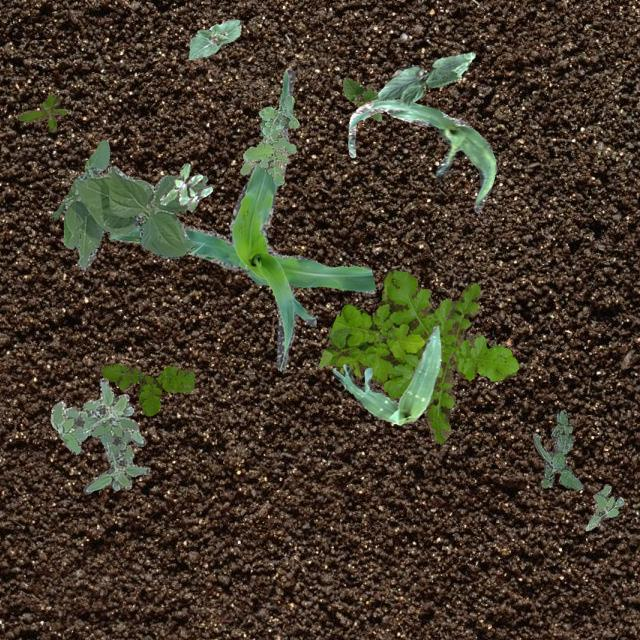crop: (106, 66, 374, 370), (52, 138, 206, 268), (348, 98, 496, 212), (332, 324, 440, 424), (378, 52, 473, 104), (188, 18, 240, 58), (342, 76, 381, 120)
weed: (318, 268, 518, 442), (49, 376, 144, 454), (238, 94, 298, 184), (82, 416, 148, 492), (98, 364, 194, 414), (532, 408, 582, 488), (158, 162, 212, 210), (584, 482, 622, 530), (18, 94, 66, 130)
